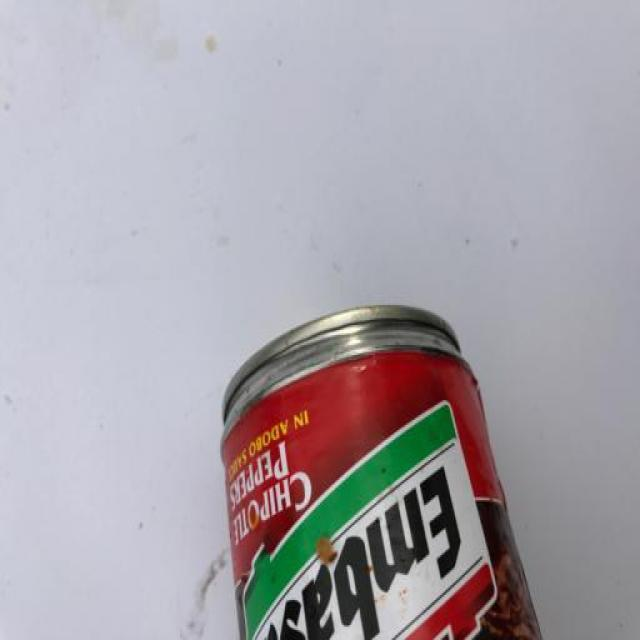metel: (197, 269, 556, 640)
